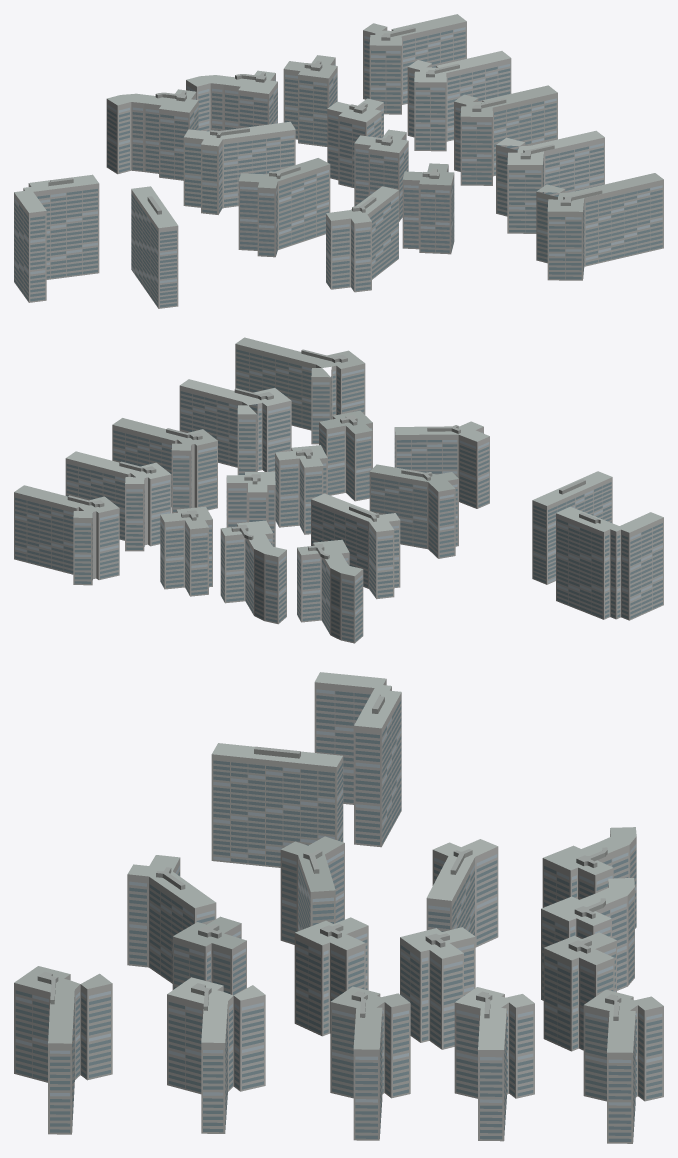
File: apt-a13178101.glb
3 renders of one model, top to bottom at view 1: azimuth 30°, elevation 25°; view 2: azimuth 150°, elevation 25°; view 3: azimuth 270°, elevation 25°, orthographic. The views are drawn at different scales.
Visible parts, largest first — view 1: apt-a13178101; view 2: apt-a13178101; view 3: apt-a13178101.
Boxes of the visible parts, bbox=[...] form: apt-a13178101: bbox=[14, 14, 663, 308]; apt-a13178101: bbox=[14, 337, 663, 643]; apt-a13178101: bbox=[14, 672, 663, 1143].
Bounding box in the file's own units: 373 × 61 × 290.
